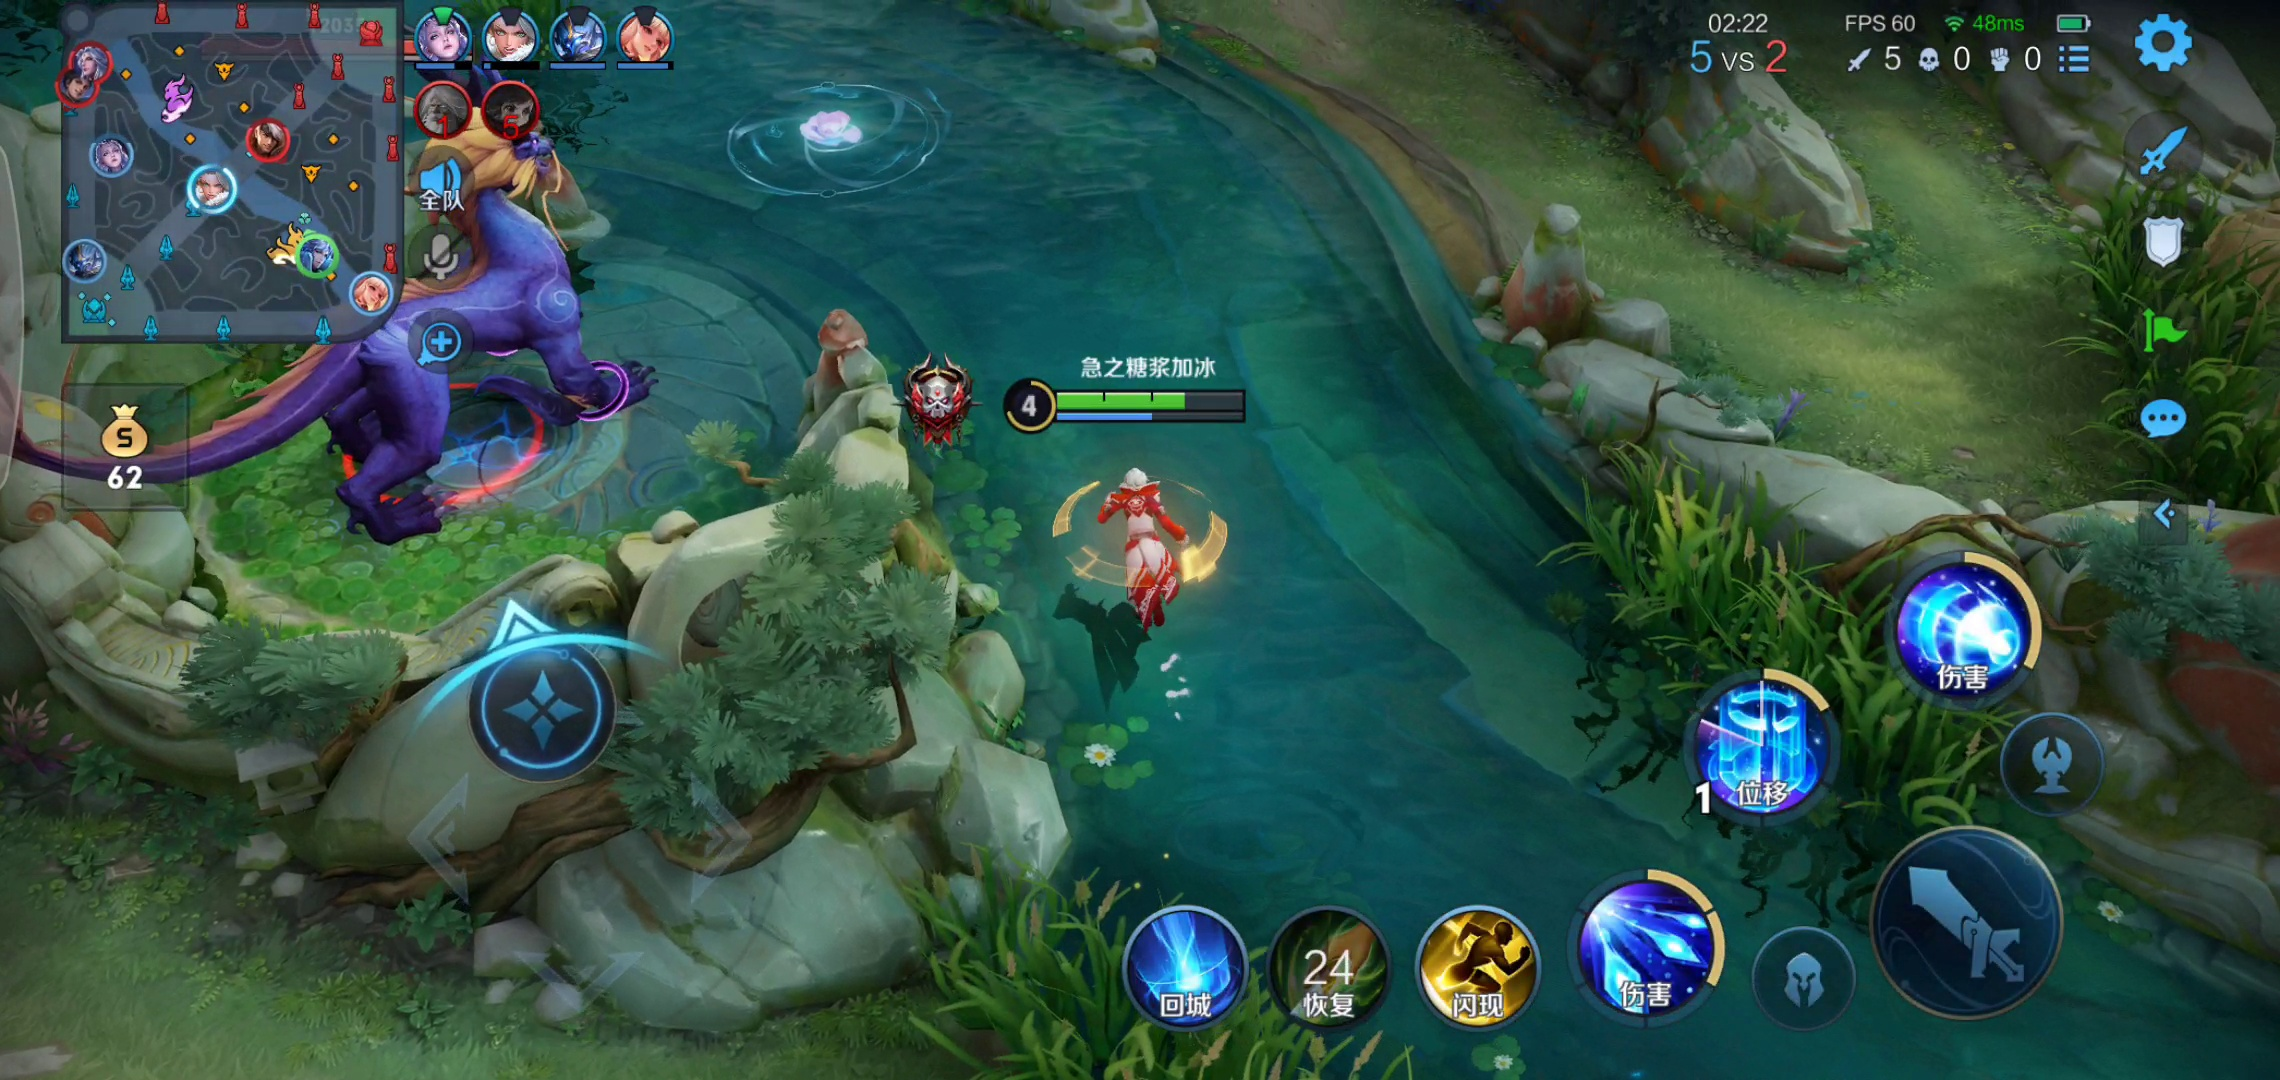dragon: (247, 131, 666, 541)
grass: (1557, 481, 1994, 888), (919, 852, 1328, 1080), (2074, 198, 2280, 491)
hero: (1051, 459, 1224, 638)
